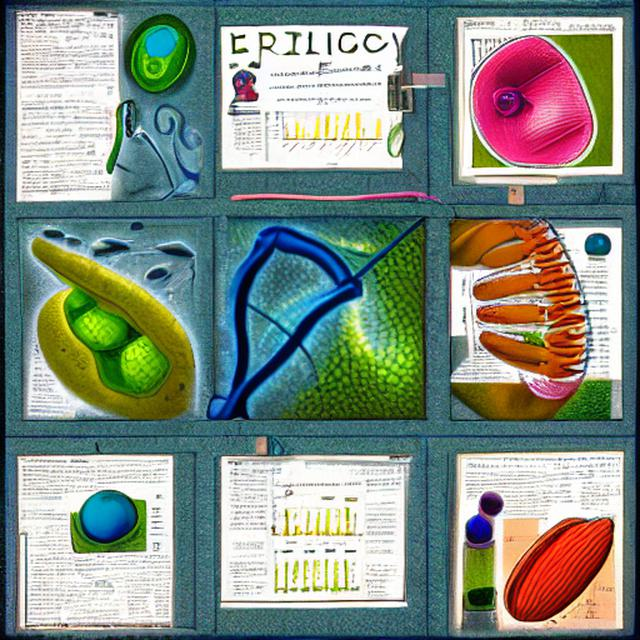Graph: (262, 95, 385, 165)
